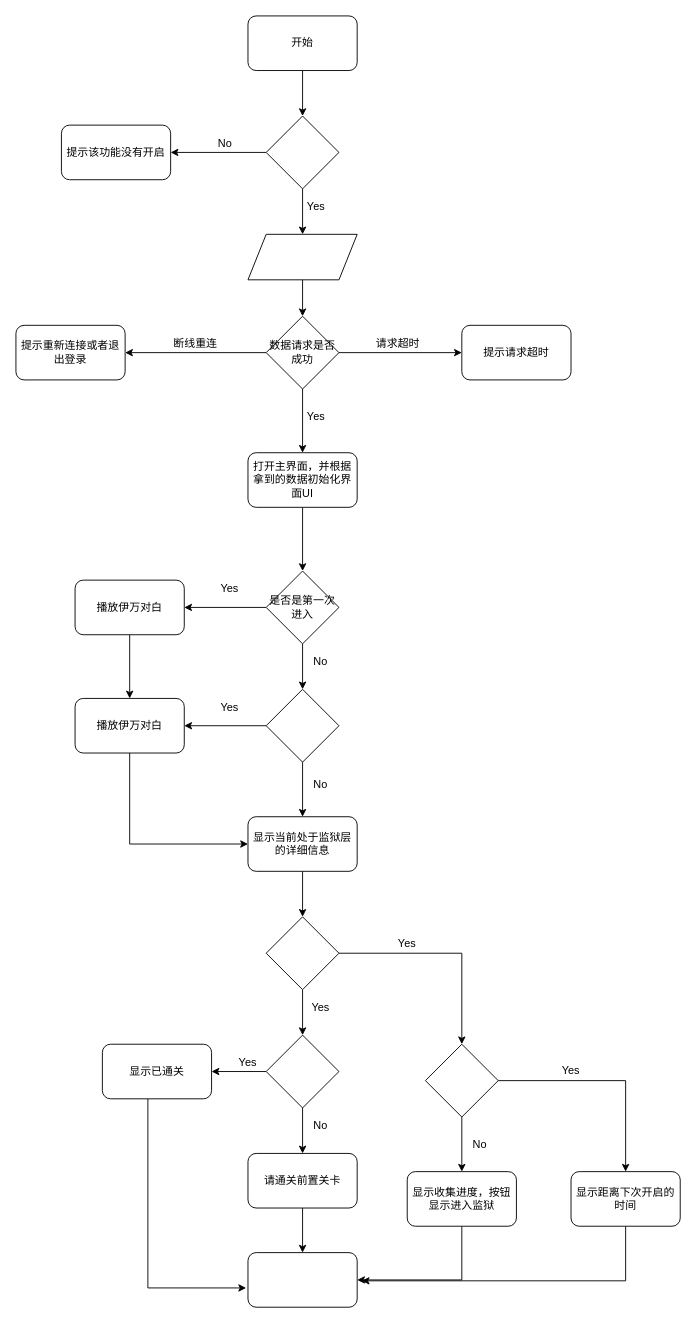
The diagram is 696 pixels wide and 1323 high, and some of its shapes have lost their labels. Each missing label, with the centre of its shape:
判断是否当前层: the point at 302,953
是否已经全部收集完成: the point at 461,1080
是否是已通关 层: the point at 302,1071
是否是新CD进入: the point at 302,725
结束: the point at 302,1279
该功能是否开启: the point at 302,152
请求主页数据: the point at 302,256
